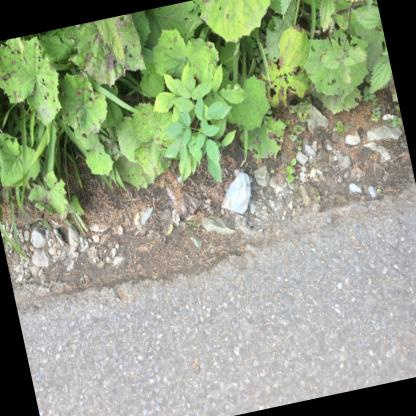Metal: (221, 168, 251, 213)
